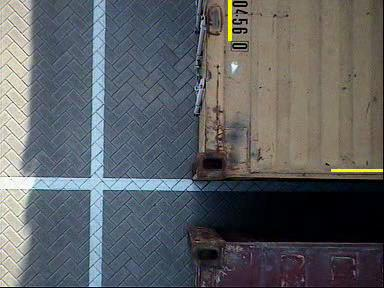groundmarker_2: (109, 140, 182, 191)
